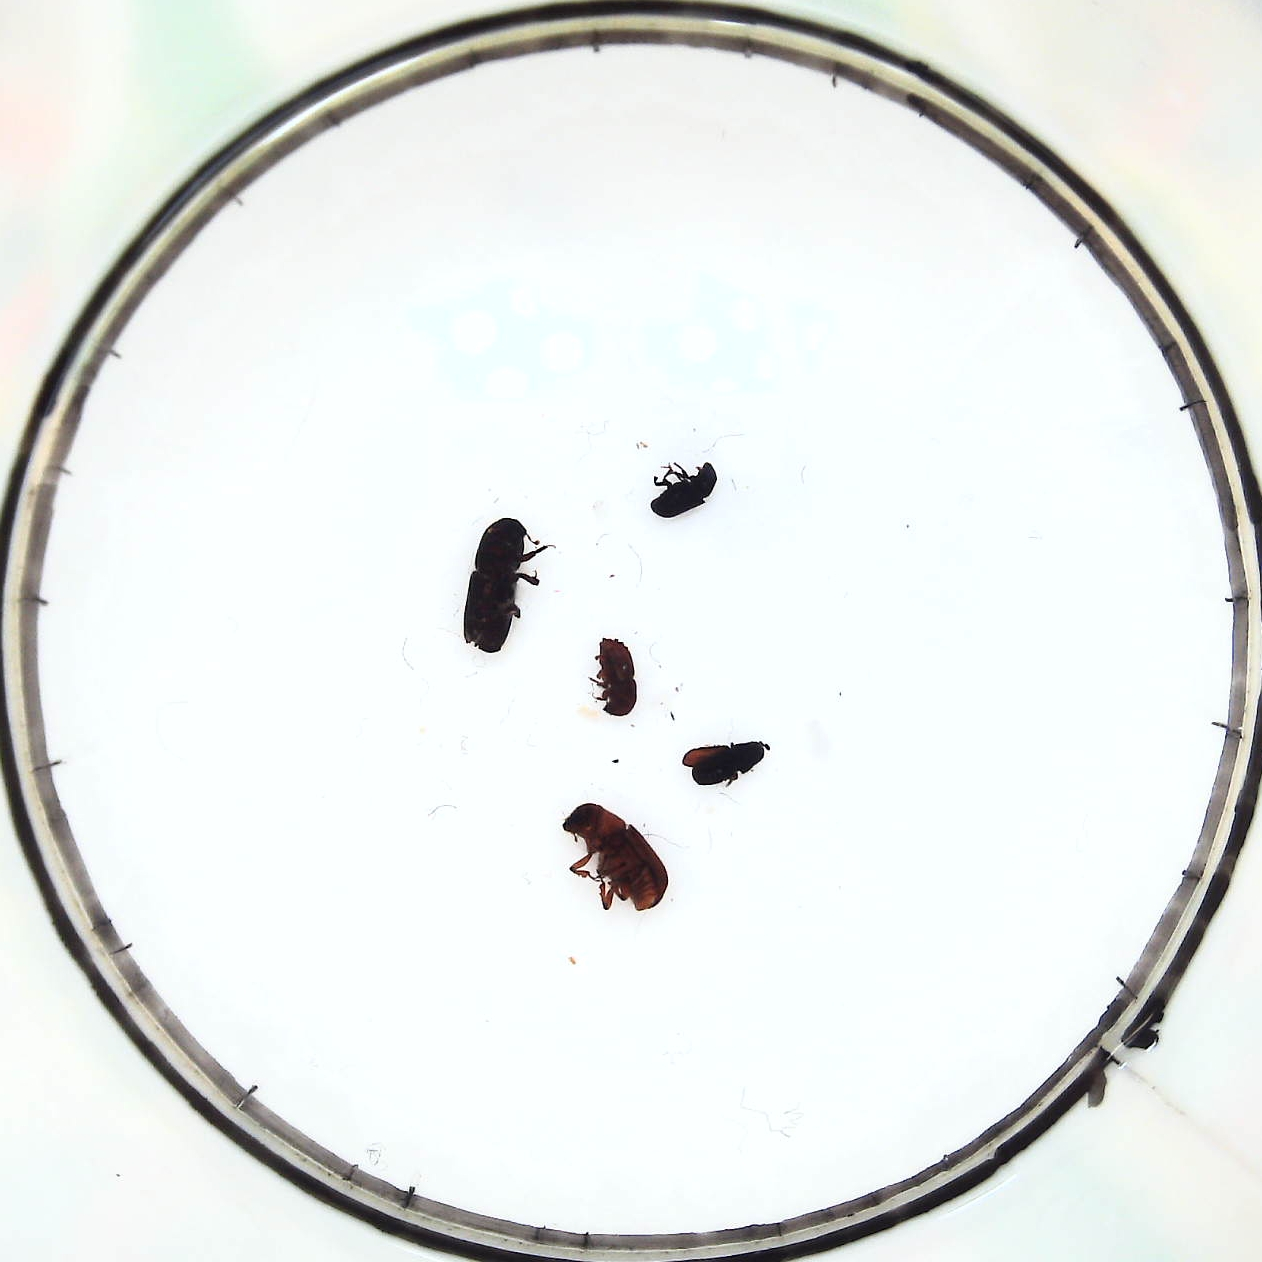Boerner: (462, 515, 525, 652)
Leconte: (564, 799, 668, 913)
Linnaeus: (592, 637, 637, 718)
armandi: (680, 740, 769, 789)
coleoptera: (649, 461, 720, 522)
